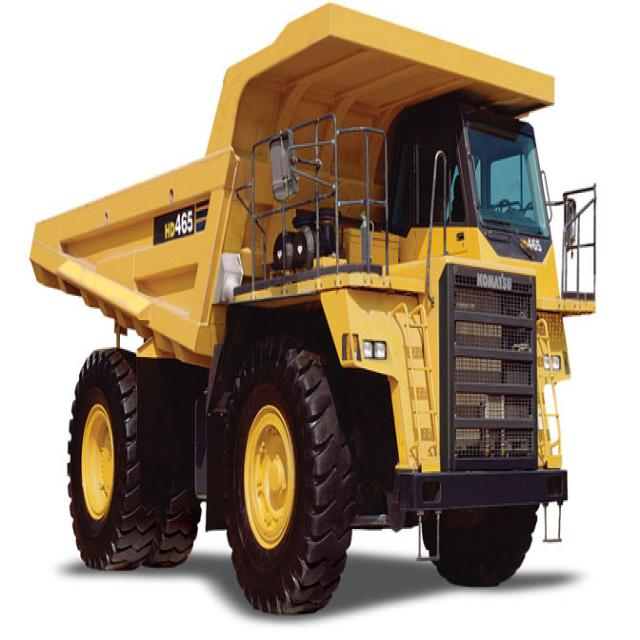dump_truck: (12, 9, 605, 611)
